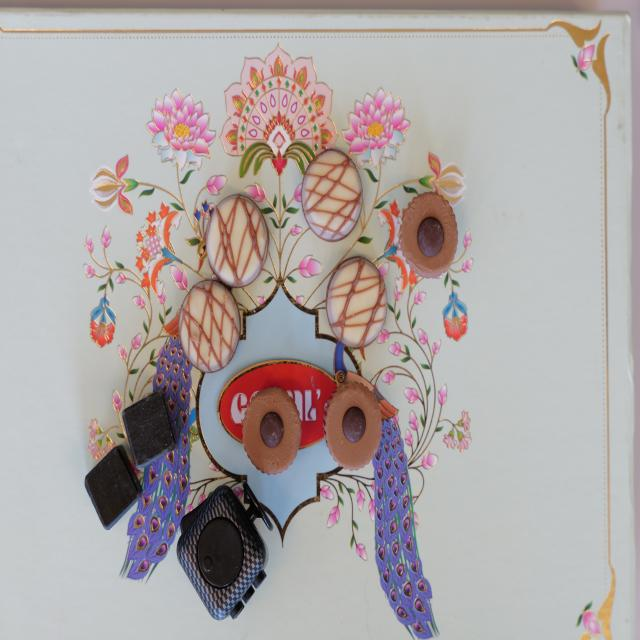Creme_brulee: (206, 192, 268, 286), (302, 147, 362, 242), (329, 253, 388, 348), (181, 280, 241, 371)
Noblesse: (400, 192, 459, 279), (244, 387, 302, 473), (328, 379, 381, 466)
